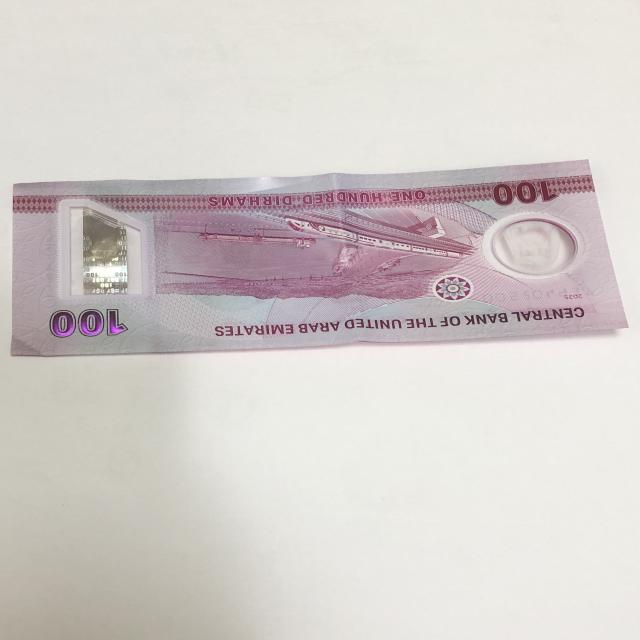100_AED: (11, 154, 633, 356)
